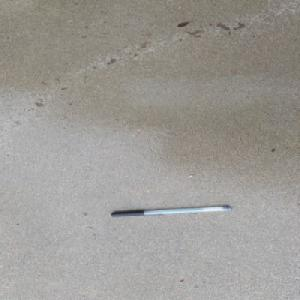Pen: (109, 203, 232, 216)
